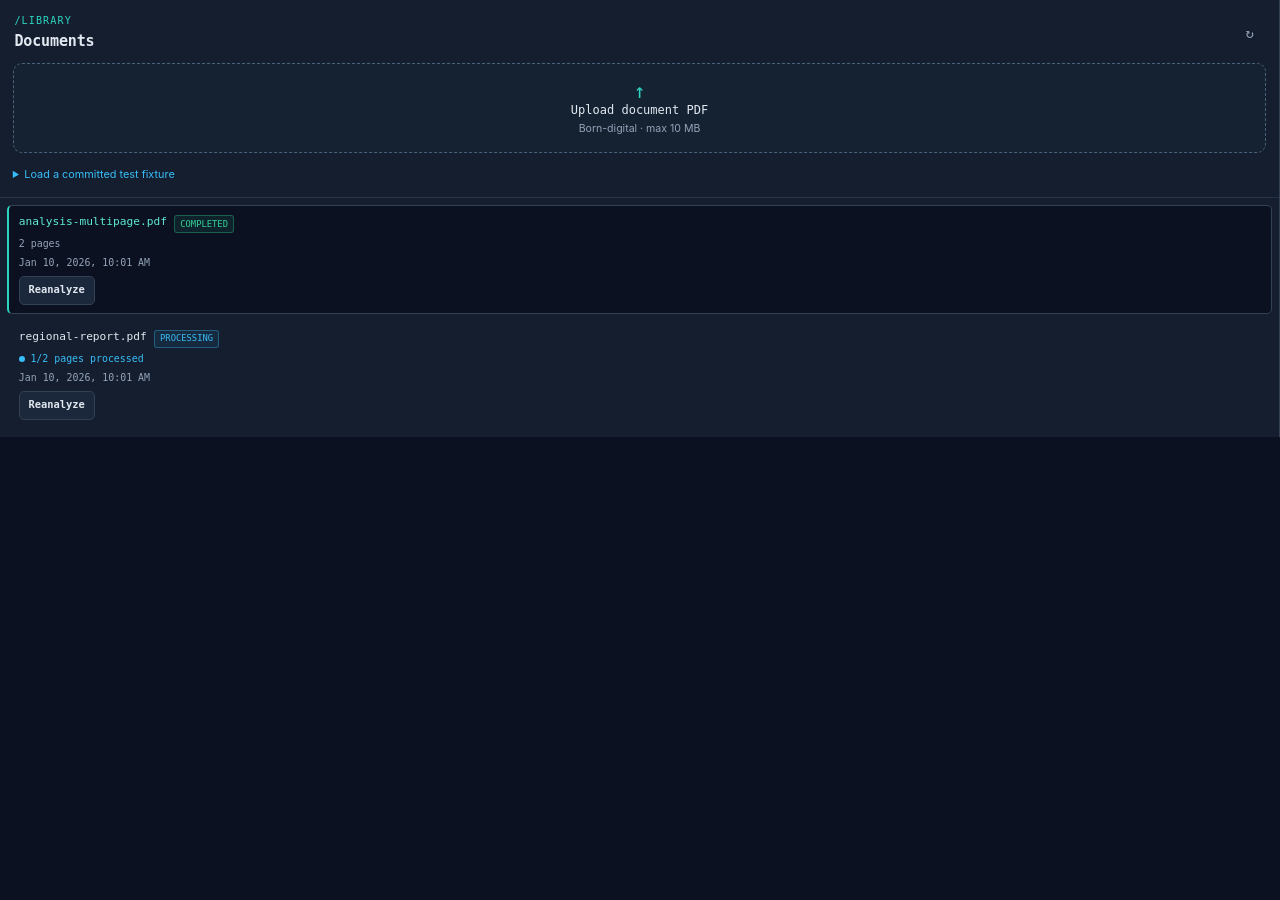
Test case: DocumentLibrary › offers committed fixtures with honest provenance
The image size is (1280, 900).
Step 1. Click the heading "Load a committed test fixture" → click(100, 174), box [24,167,175,181]
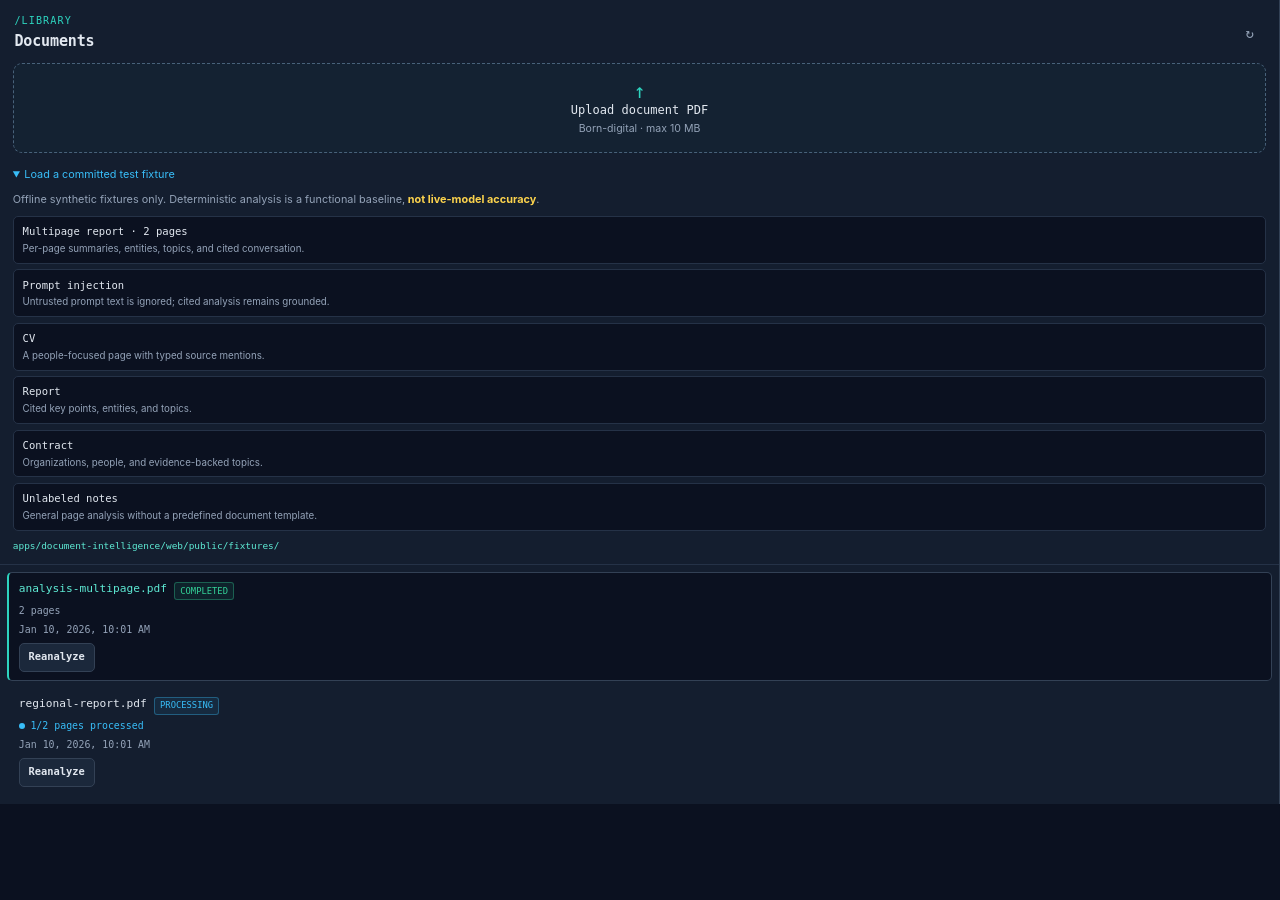
Expected: the text "not live-model accuracy" is shown, [405,192,536,206]
Expected: the text "Multipage report · 2 pages" is shown, [23,224,188,240]
Expected: the text "CV" is shown, [23,331,35,347]
